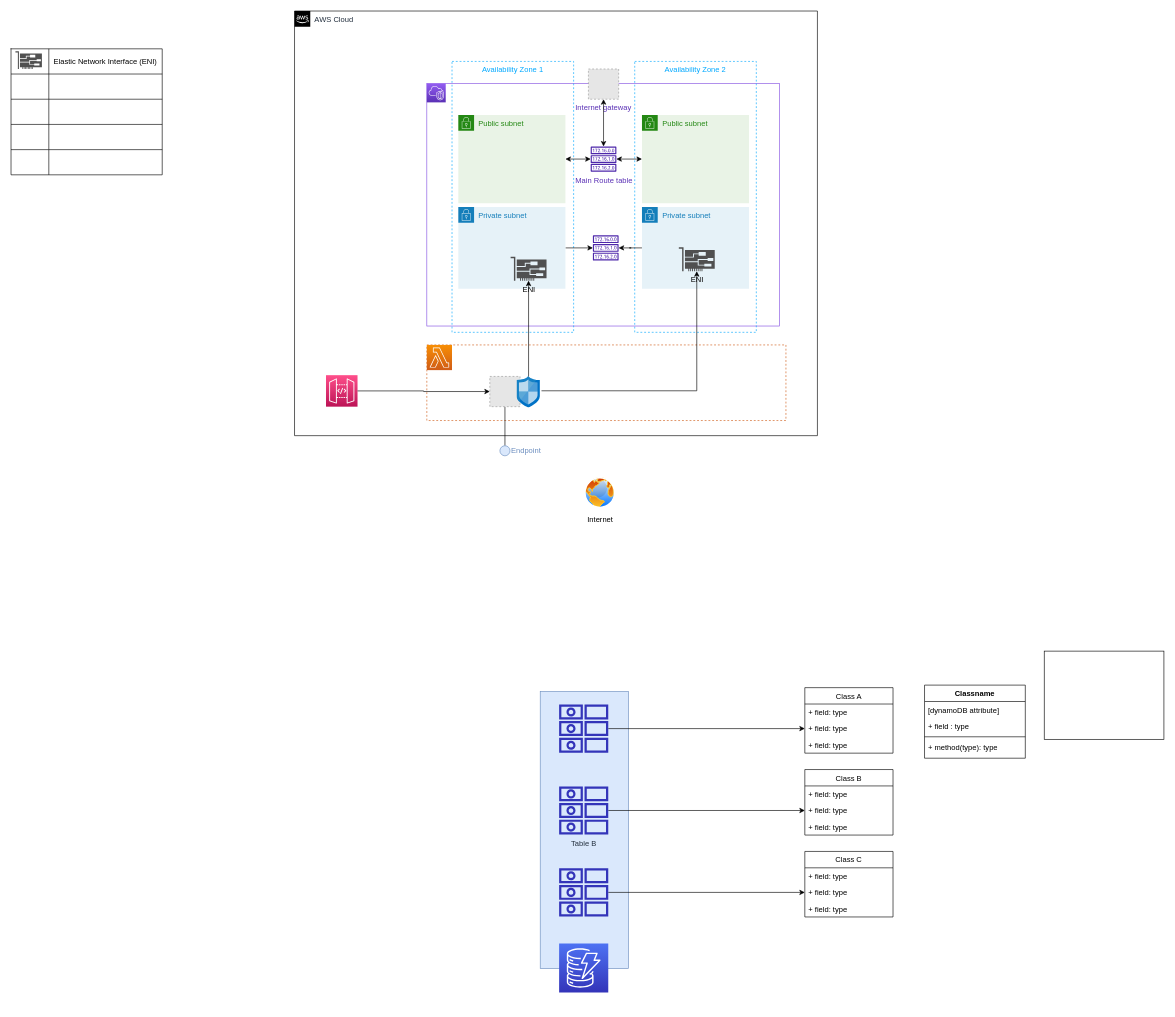
Image size: 1175x1017. Some labels were removed from this diagram. Grey dashed boxes stand in for pictures. The centre of each missing label's shape, as x and y in pixels:
"<<Interface>> Interface + method1(Type): Type + method2(Type, Type): Type" goes at point (1104, 694).
"API Gateway" goes at point (341, 391).
"AWS Lambda" goes at point (439, 357).
"DynamoDB" goes at point (583, 968).
"Route table" goes at point (605, 247).
"Security group" goes at point (528, 392).
"Table A" goes at point (583, 728).
"Table C" goes at point (583, 892).
"VPC" goes at point (436, 92).
